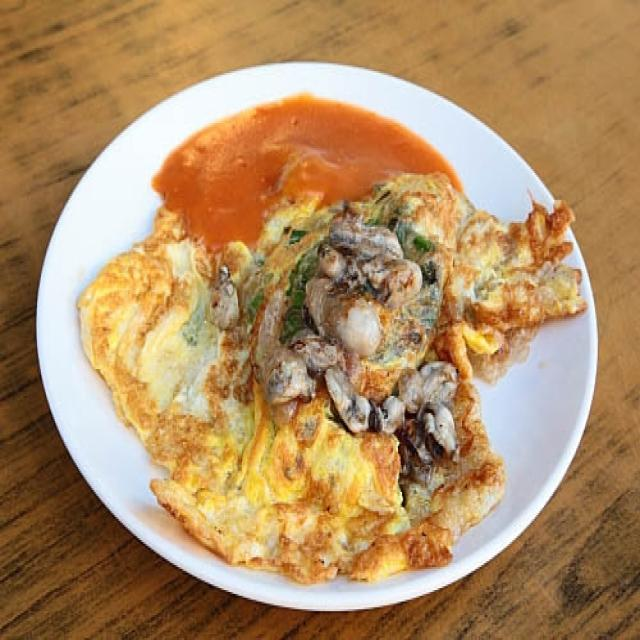熟制海鲜: (32, 44, 608, 596)
